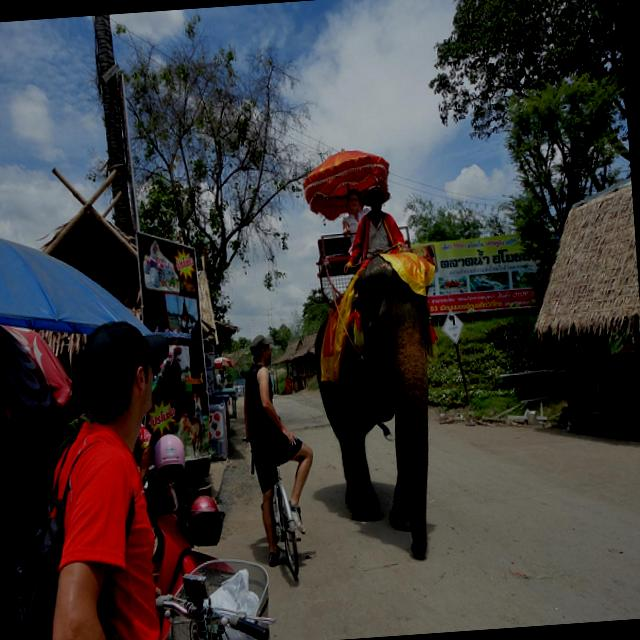Vehicle: (138, 432, 230, 594)
